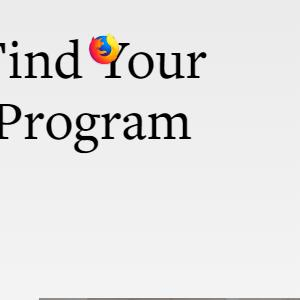firefox: (89, 33, 119, 65)
